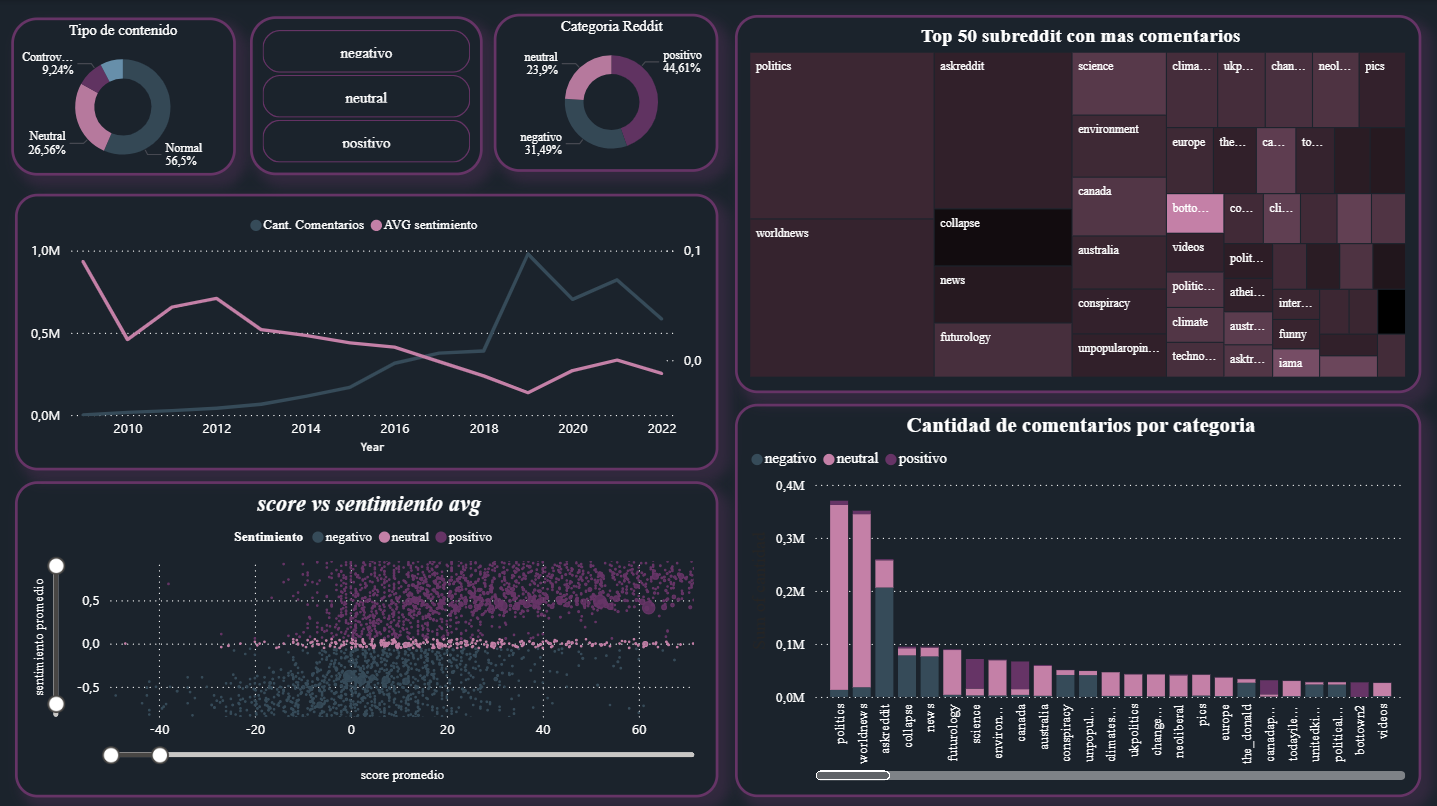

This screenshot's page, from the dashboard's own definition file:
{"tool":"powerbi","page":{"name":"Page 1","canvas":[1280,720],"ordinal":0},"visuals":[{"type":"scatterChart","title":"score vs sentimiento avg","fields":{"X":["Avg(public controversia_por_subreddit.score_promedio)"],"Y":["Avg(public controversia_por_subreddit.sentiment_promedio)"],"Size":["Sum(public controversia_por_subreddit.cantidad)"],"Category":["public controversia_por_subreddit.subreddit.name"],"Series":["public controversia_por_subreddit.SentimentCategoria"]},"box":[5,6.2,601.2,333.8],"z":0},{"type":"lineChart","fields":{"Y2":["Sum(public tendencias_diarias.avg_sentiment)"],"Y":["Sum(public tendencias_diarias.volumen)"],"Category":["public tendencias_diarias.periodo.Variation.Date Hierarchy.Year","public tendencias_diarias.periodo.Variation.Date Hierarchy.Month"]},"box":[606.2,380,665,333.8],"z":1000},{"type":"treemap","title":"Top 50 subreddit con mas comentarios","fields":{"Values":["Sum(public controversia_por_subreddit.cantidad)"],"Group":["public controversia_por_subreddit.subreddit.name"]},"box":[612.5,6.2,658.8,333.8],"z":2000},{"type":"columnChart","title":"Cantidad de comentarios por categoria","fields":{"Category":["public controversia_por_subreddit.subreddit.name"],"Y":["Sum(public controversia_por_subreddit.cantidad)"],"Series":["public controversia_por_subreddit.SentimentCategoria"]},"box":[2.9,380,598.6,334.3],"z":4000},{"type":"advancedSlicerVisual","fields":{"Values":["public controversia_por_subreddit.SentimentCategoria"]},"box":[530,340,220,40],"z":4500}]}

Visuals, with their boxes in screenshot pixels (x1, y1, x2, y2), scaled from the page's 1280x720 canvas onto the 1437x806 screenshot:
"score vs sentimiento avg" scatterChart: (x1=6, y1=7, x2=681, y2=381)
lineChart - Sum(public tendencias_diarias.avg_sentiment) x Sum(public tendencias_diarias.volumen): (x1=681, y1=425, x2=1427, y2=799)
"Top 50 subreddit con mas comentarios" treemap: (x1=688, y1=7, x2=1427, y2=381)
"Cantidad de comentarios por categoria" columnChart: (x1=3, y1=425, x2=675, y2=800)
advancedSlicerVisual - public controversia_por_subreddit.SentimentCategoria: (x1=595, y1=381, x2=842, y2=425)
